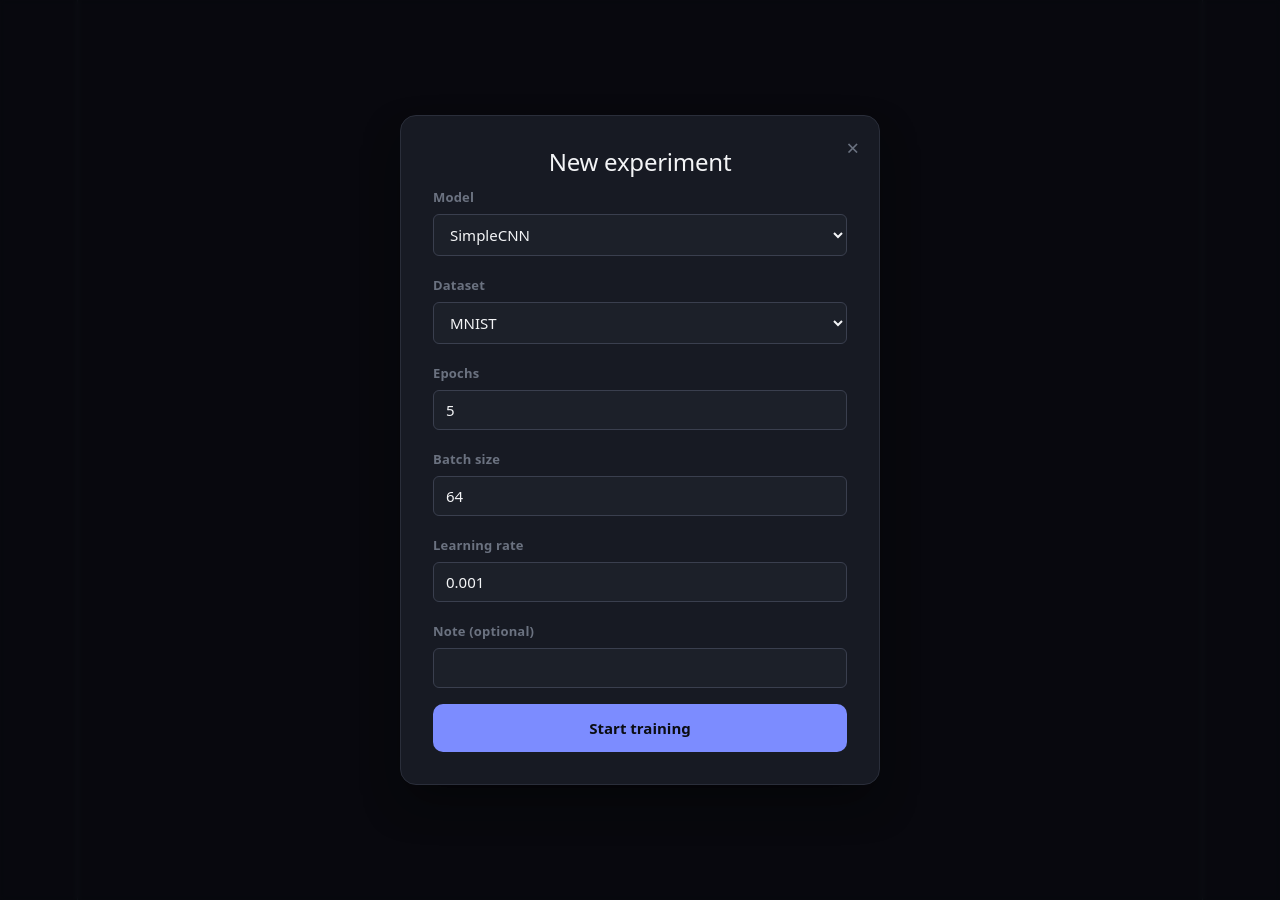
Scenario: NewExperimentModal › shows the server error message when training fails
Click the button "Start training": click(640, 728) [433, 704, 847, 752]
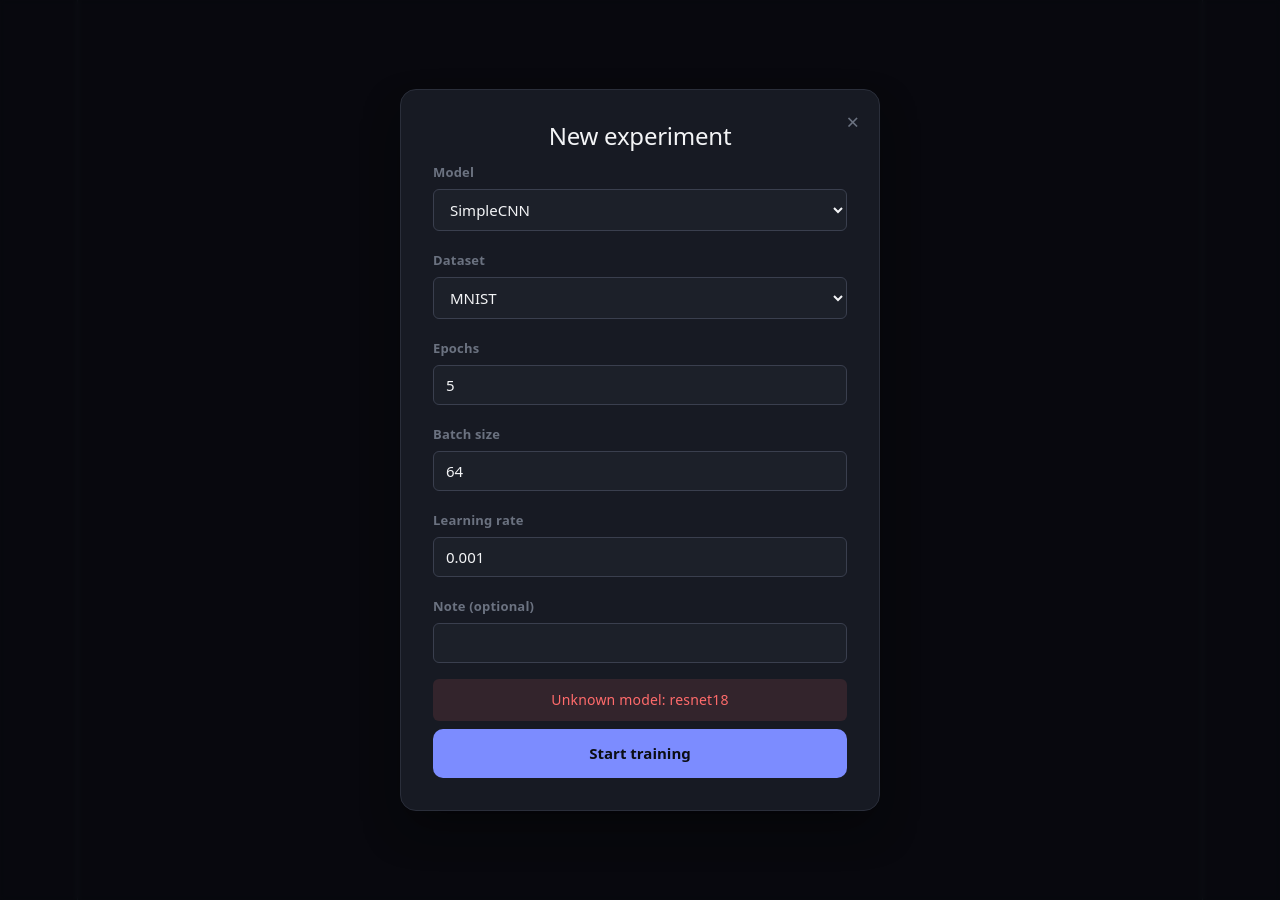
Result: the text "Unknown model: resnet18" is shown at [433, 679, 847, 721]
